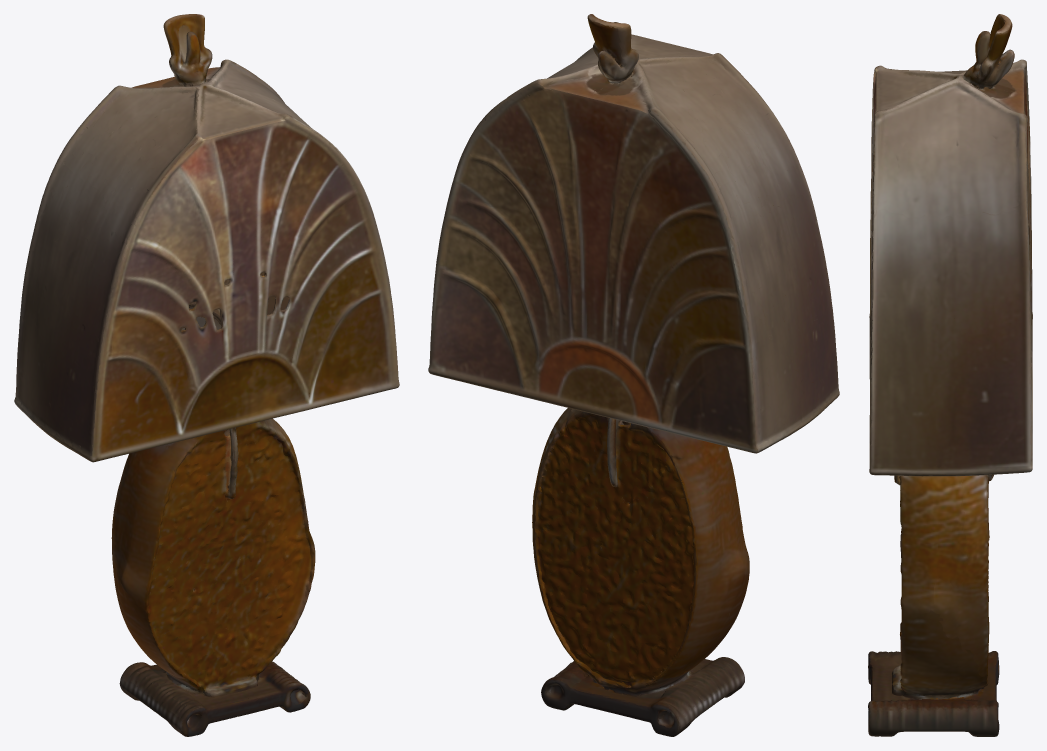
Rendered from lamp-lux3d-pbr.glb.
3 views of the same model, side by side, from view 1: azimuth 30°, elevation 25°; view 2: azimuth 150°, elevation 25°; view 3: azimuth 270°, elevation 25° (orthographic). The views are drawn at different scales.
Visible parts, largest first — view 1: prototype_meters_centered; view 2: prototype_meters_centered; view 3: prototype_meters_centered.
Boxes of the visible parts, x1,y1,x2,y2 form: prototype_meters_centered: (14, 14, 399, 736); prototype_meters_centered: (428, 14, 839, 736); prototype_meters_centered: (868, 14, 1032, 736).
Bounding box in the file's own units: 0.2291 × 0.45 × 0.0981.
1 material, 1 textured.
